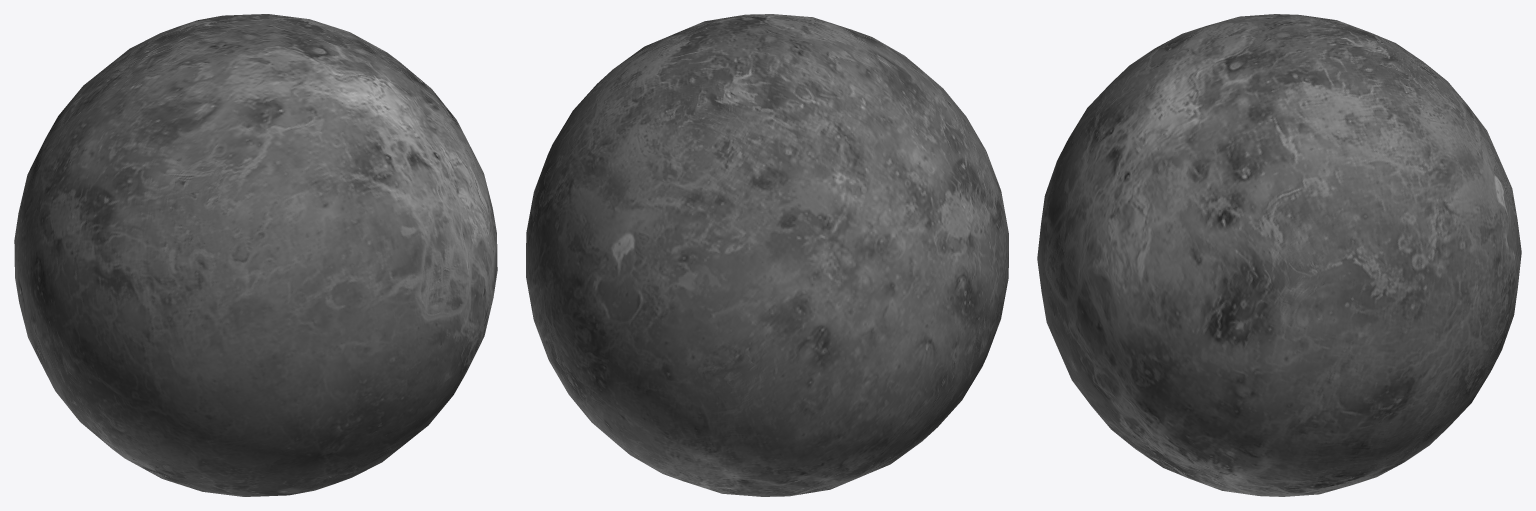
File: Mercury 1K.obj
The picture shows the model from 3 angles, left to right: view 1: azimuth 30°, elevation 25°; view 2: azimuth 150°, elevation 25°; view 3: azimuth 270°, elevation 25°; orthographic projection.
Parts seen in each view (by area): view 1: Mercury; view 2: Mercury; view 3: Mercury.
Boxes of the visible parts, x1,y1,x2,y2 form: Mercury: (14,14,497,496); Mercury: (526,14,1008,496); Mercury: (1037,14,1521,496).
Bounding box in the file's own units: 0.4801 × 0.4795 × 0.4811.
